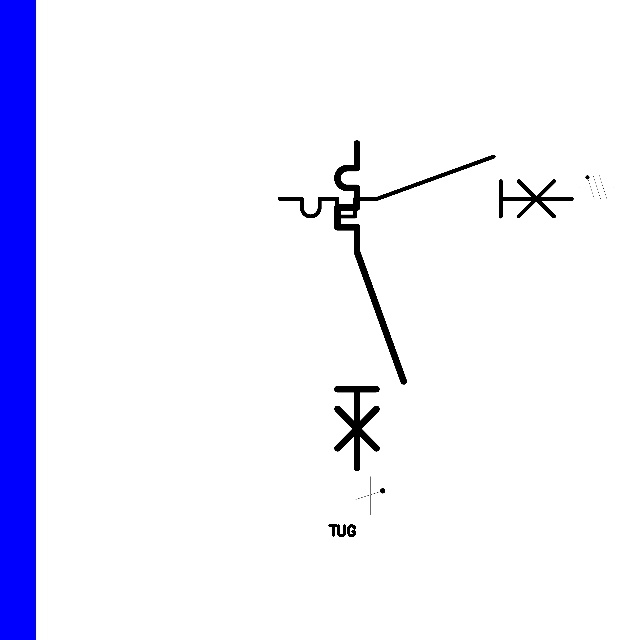interruptor_termomagnetico: (329, 135, 412, 477), (272, 149, 579, 224)
